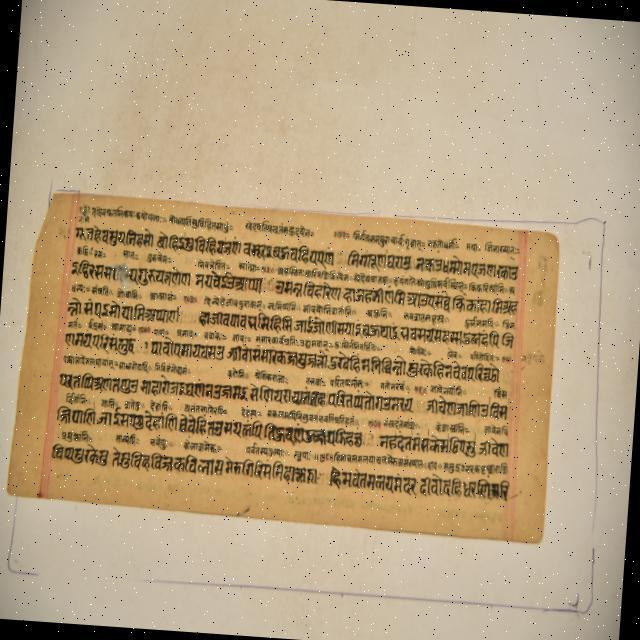text_paragraph: (8, 186, 557, 548)
